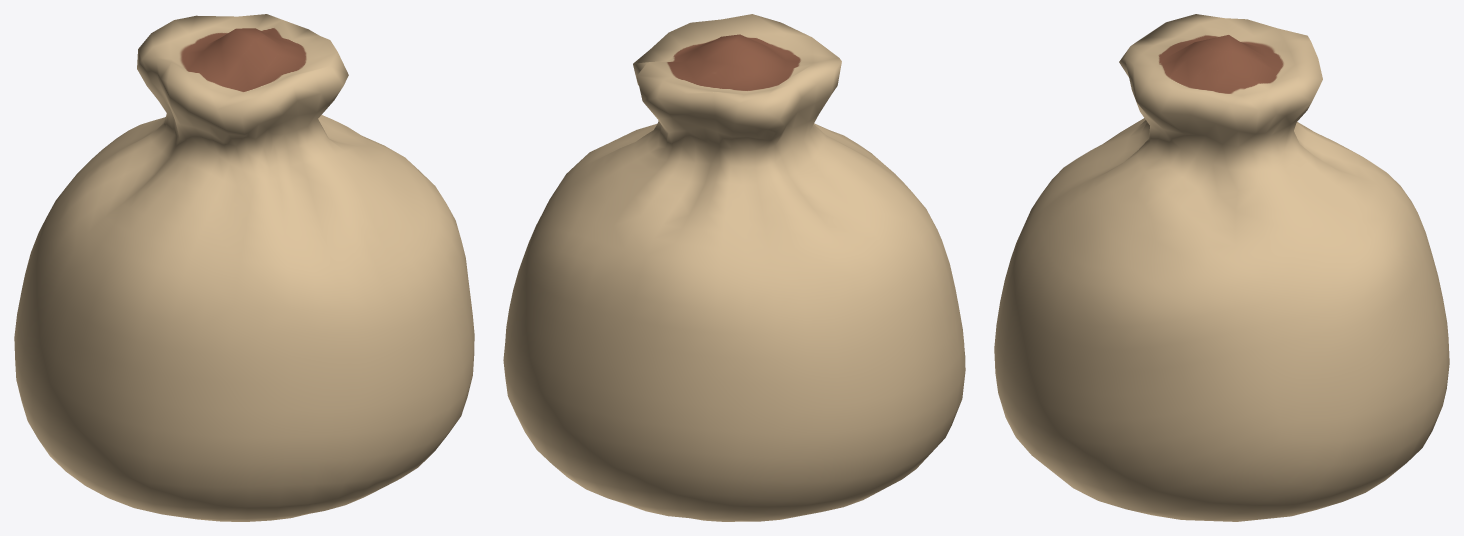
The model's file is TOPRAKBAG.fbx.
3 renders of one model, left to right at view 1: azimuth 30°, elevation 25°; view 2: azimuth 150°, elevation 25°; view 3: azimuth 270°, elevation 25°, orthographic.
Visible parts, largest first — view 1: TOPRAKBAG_LOW; view 2: TOPRAKBAG_LOW; view 3: TOPRAKBAG_LOW.
Part boxes in pixels (x1,y1,x2,y2): TOPRAKBAG_LOW: [14, 14, 474, 521]; TOPRAKBAG_LOW: [503, 14, 965, 521]; TOPRAKBAG_LOW: [994, 14, 1449, 521].
Size of the model in its own units: 0.3127 by 0.3197 by 0.3118.
